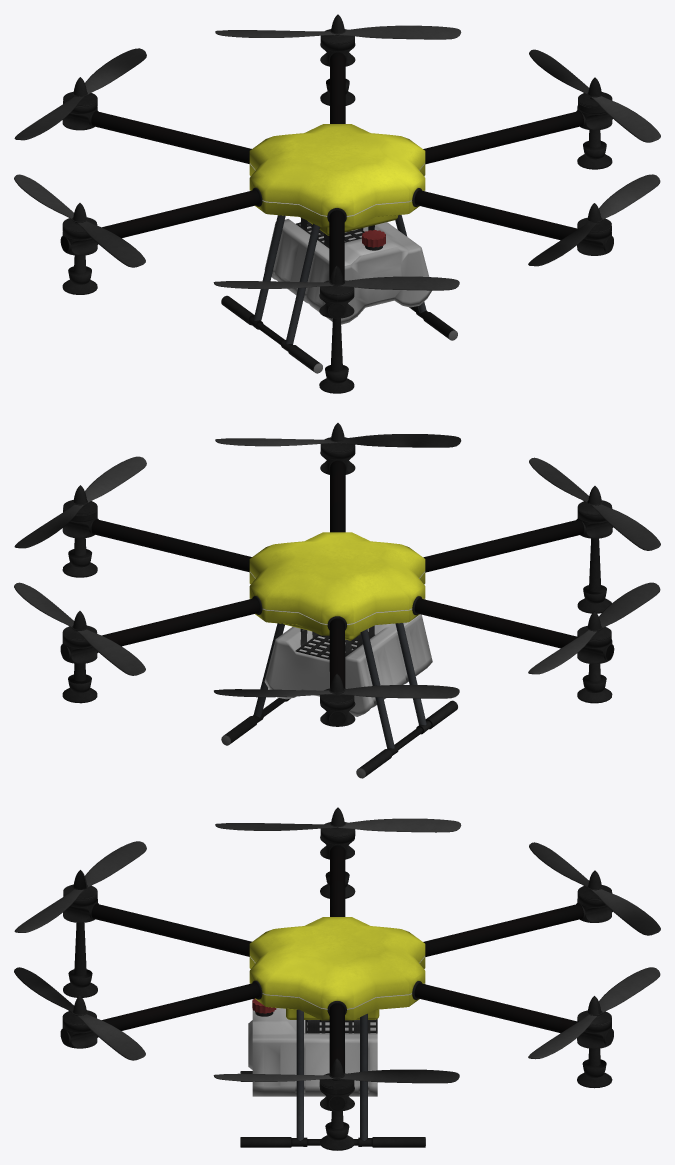
File: drone.glb
3 renders of one model, top to bottom at view 1: azimuth 30°, elevation 25°; view 2: azimuth 150°, elevation 25°; view 3: azimuth 270°, elevation 25°, orthographic.
Visible parts, largest first — view 1: pCylinder20, pCylinder7, polySurface24, polySurface6, polySurface9, polySurface5, polySurface8, polySurface7, polySurface4, pCylinder26, pCylinder23, polySurface13 (+2 smaller); view 2: pCylinder20, pCylinder7, polySurface24, polySurface4, polySurface7, polySurface6, polySurface9, polySurface8, polySurface5, pCylinder26, pCylinder23, polySurface13 (+8 smaller); view 3: pCylinder20, pCylinder7, polySurface24, polySurface8, polySurface5, polySurface7, polySurface4, polySurface9, polySurface6, pCylinder26, pCylinder23, polySurface13 (+7 smaller).
Boxes of the visible parts, box(x1,y1,x2,y2) form: pCylinder20: box(249, 124, 425, 227); pCylinder7: box(61, 52, 613, 317); polySurface24: box(264, 219, 431, 324); polySurface6: box(215, 14, 461, 39); polySurface9: box(213, 266, 459, 290); polySurface5: box(529, 49, 660, 142); polySurface8: box(14, 174, 145, 267); polySurface7: box(14, 48, 146, 140); polySurface4: box(528, 174, 660, 266); pCylinder26: box(253, 215, 426, 344); pCylinder23: box(221, 295, 457, 373); polySurface13: box(319, 318, 354, 393); pCylinder20: box(249, 532, 425, 635); pCylinder7: box(61, 460, 613, 725); polySurface24: box(264, 614, 432, 716); polySurface4: box(215, 423, 461, 447); polySurface7: box(214, 674, 459, 698); polySurface6: box(14, 582, 145, 675); polySurface9: box(529, 457, 660, 550); polySurface8: box(528, 582, 660, 674); polySurface5: box(14, 456, 146, 548); pCylinder26: box(253, 623, 426, 748); pCylinder23: box(221, 698, 457, 778); polySurface13: box(577, 538, 611, 613); pCylinder20: box(249, 917, 425, 1020); pCylinder7: box(61, 845, 613, 1110); polySurface24: box(248, 999, 377, 1096); polySurface8: box(215, 807, 461, 832); polySurface5: box(213, 1058, 459, 1083); polySurface7: box(529, 842, 660, 935); polySurface4: box(14, 967, 145, 1060); polySurface9: box(14, 841, 146, 932); polySurface6: box(528, 967, 660, 1059); pCylinder26: box(296, 1009, 367, 1140); pCylinder23: box(240, 1071, 425, 1147); polySurface13: box(63, 923, 97, 997).
Size of the model in its own units: 0.2092 by 0.0667 by 0.2151.
1 material, 1 textured.
